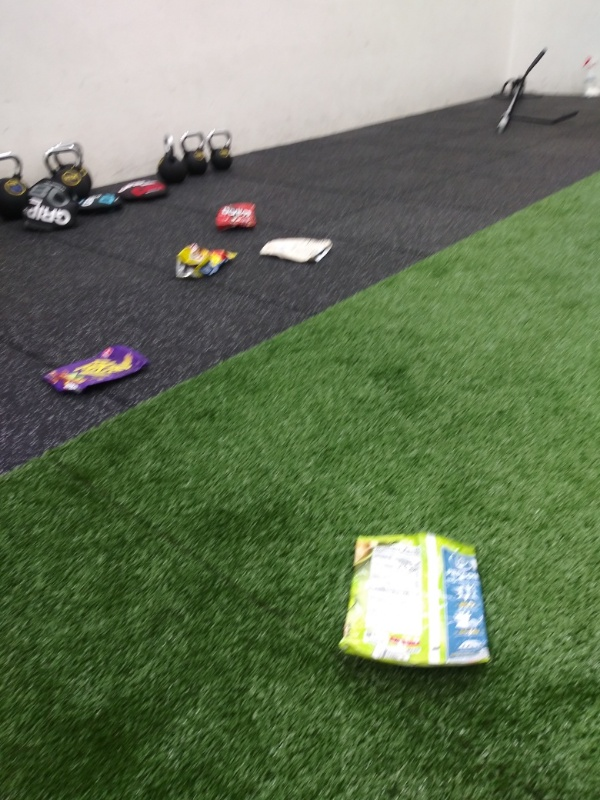bag: (334, 527, 499, 672), (37, 339, 157, 401), (257, 232, 341, 267), (171, 240, 241, 282), (208, 197, 258, 233)
